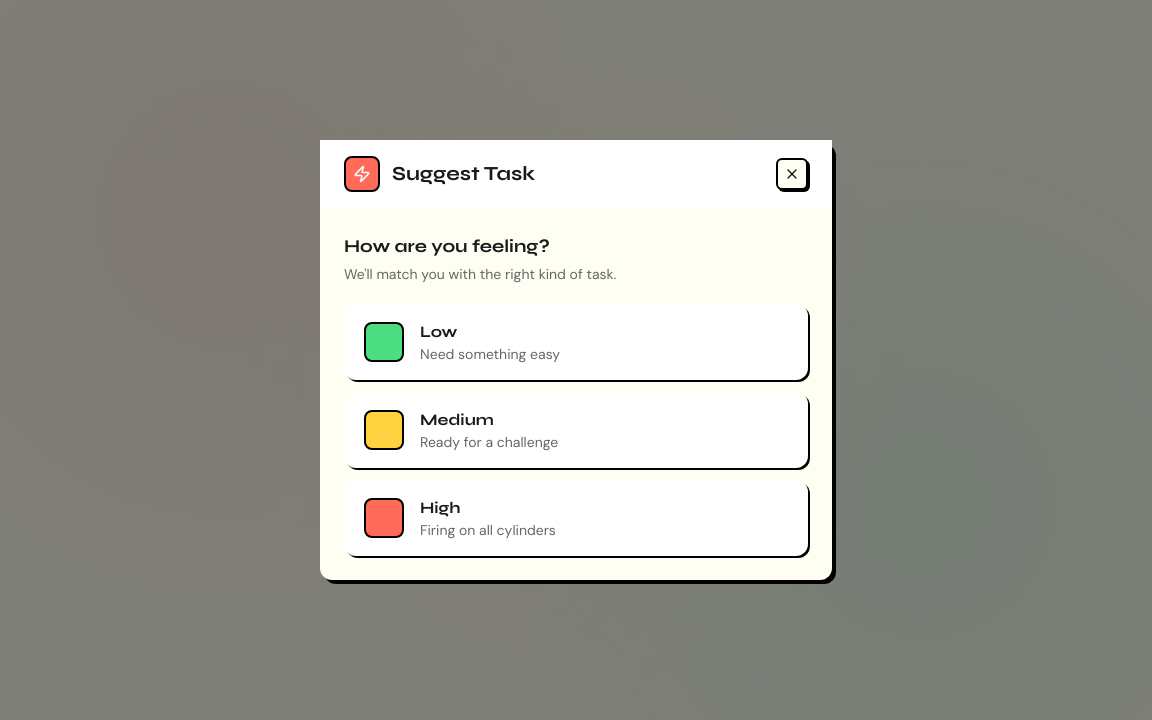
Test: TaskSuggestionModal › renders recommendation titles and why lines
Step 1. Click the text "High" → click(440, 508), box [420,498,461,517]
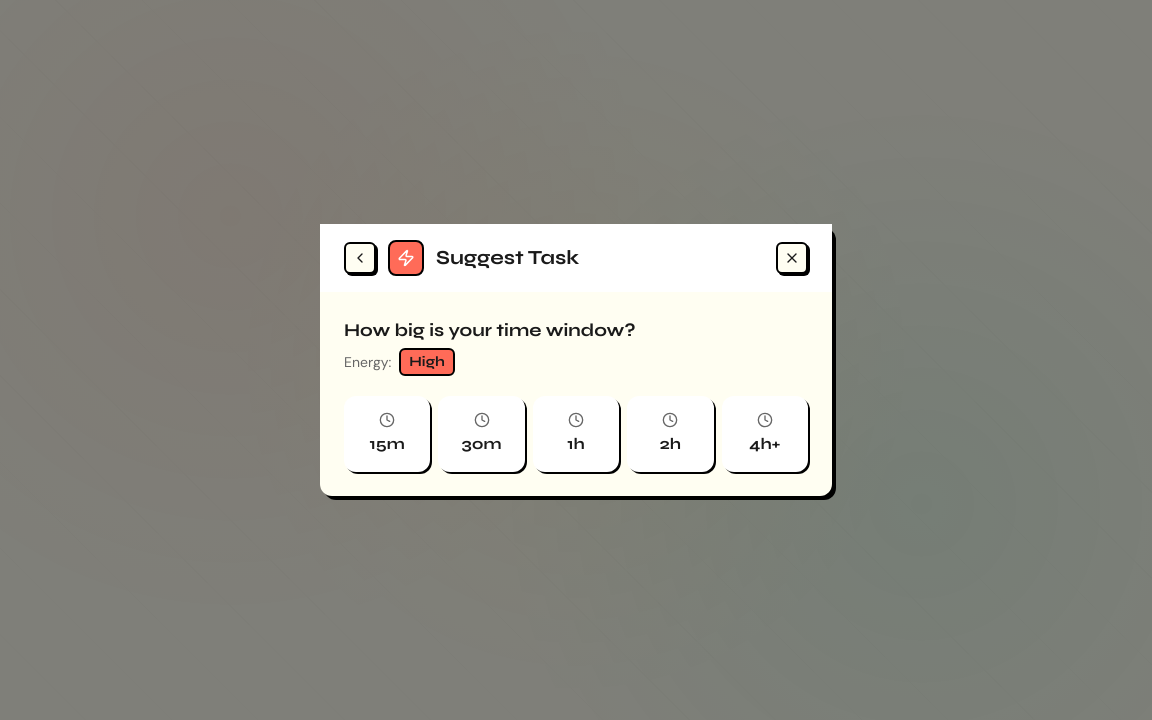
Step 2. Click the button "1h" → click(576, 434), box [533,396,619,472]
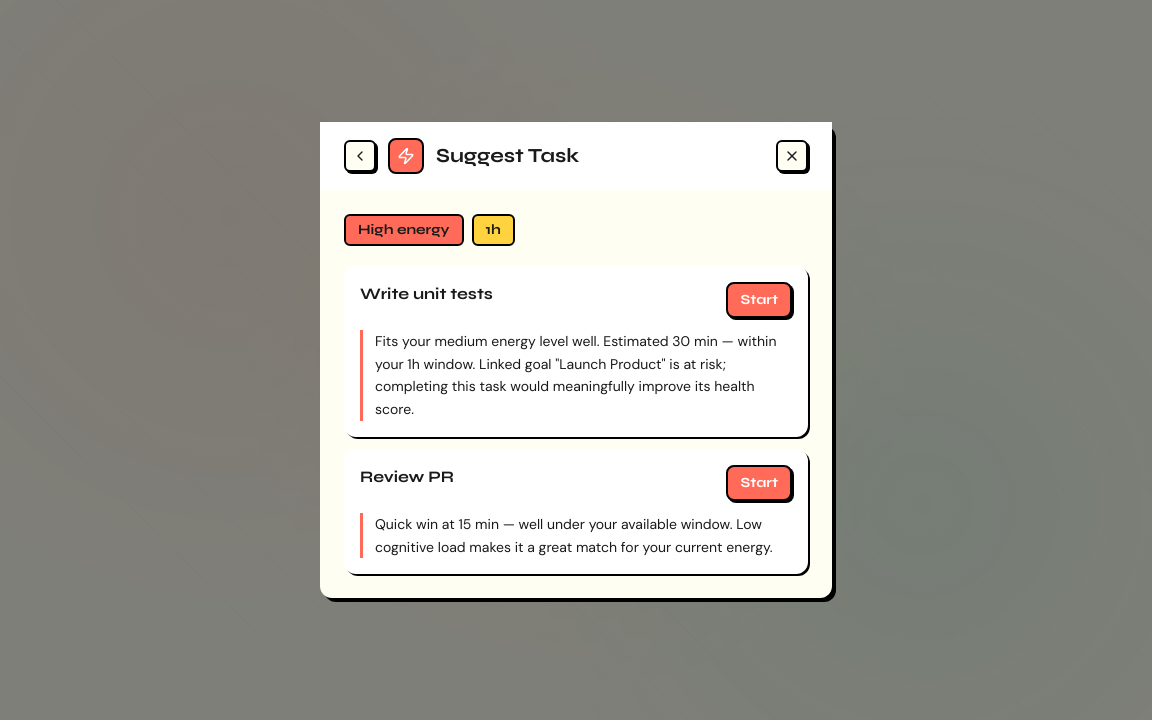
Result: the text "Write unit tests" is shown at [360,282,493,306]
Result: the text "Fits your medium energy level well" is shown at [375,332,776,418]
Result: the text "Review PR" is shown at [360,465,454,489]
